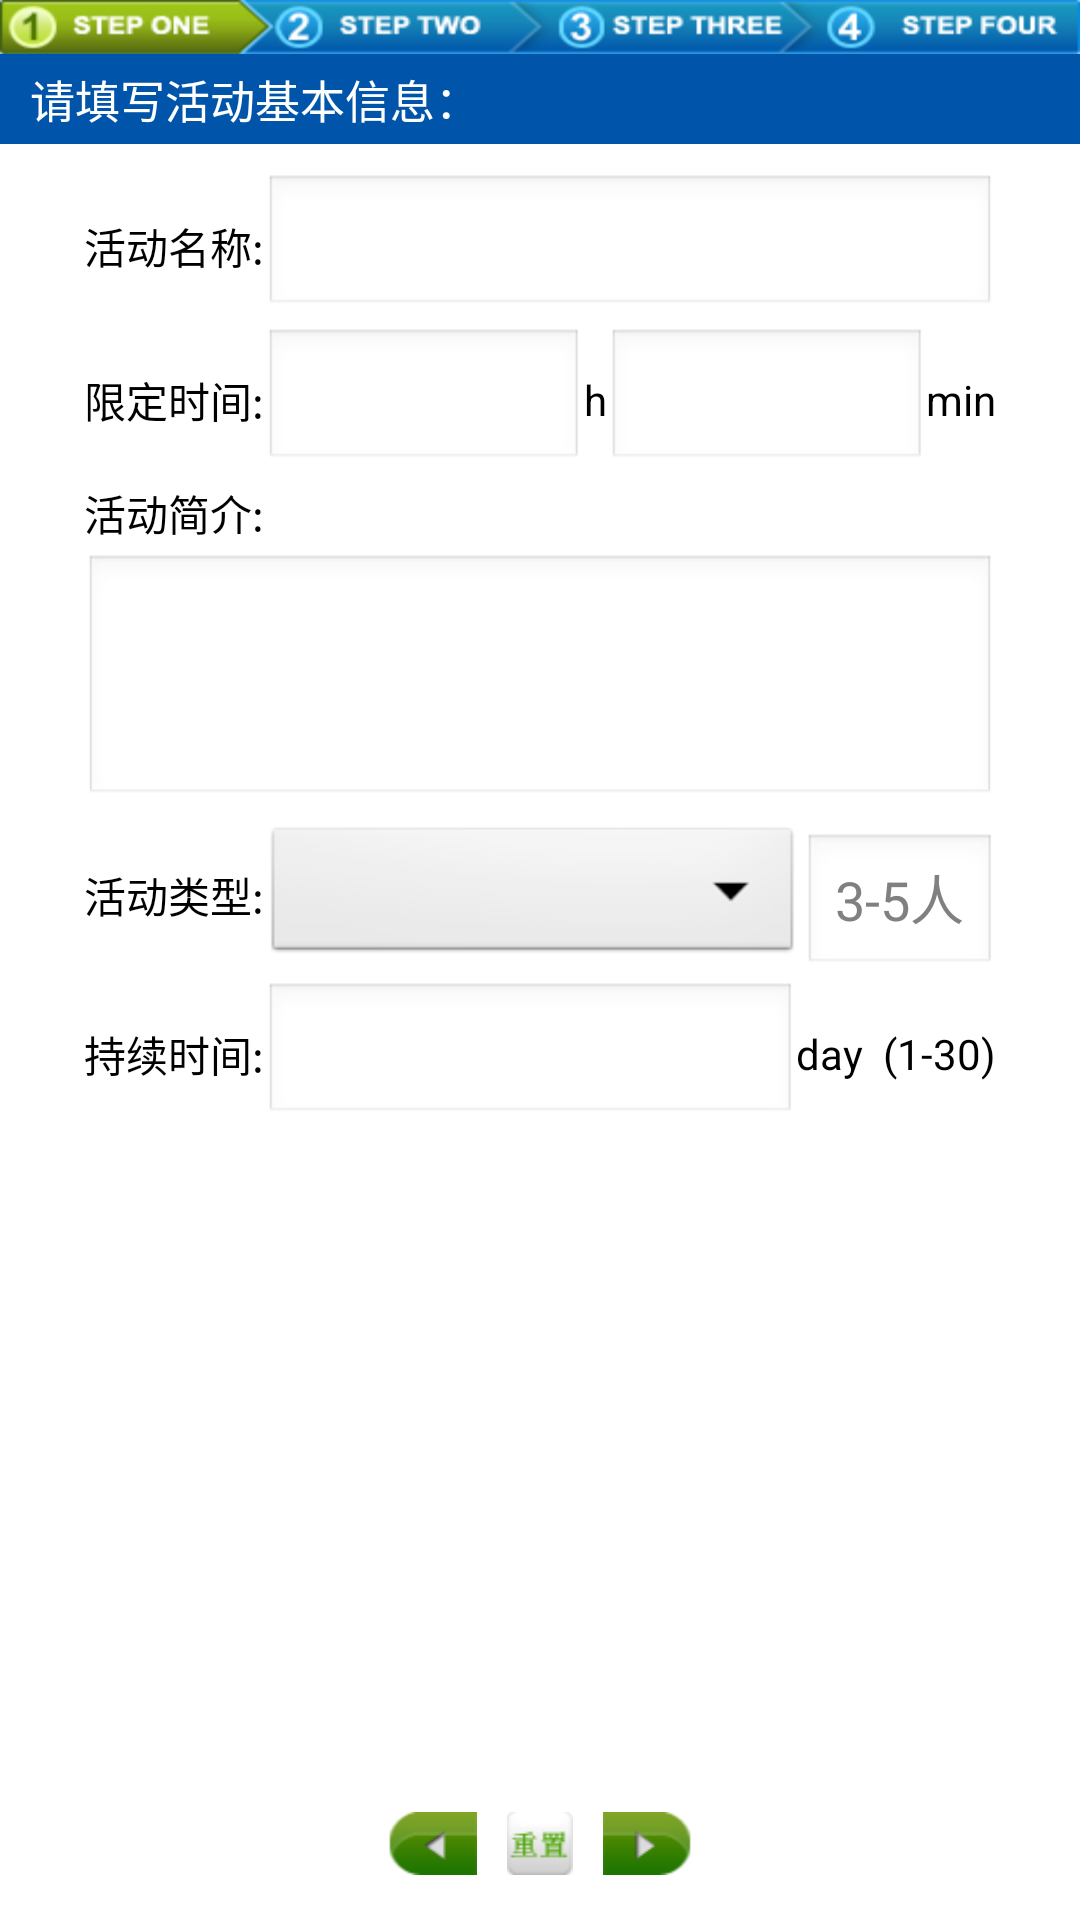

Icon click points for this 1080px×1920px phone screenshot, format [x,y]:
nextbutton: [647,1843]
pastbutton: [433,1843]
